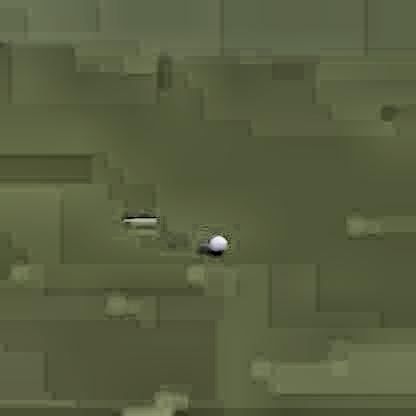golfball: (205, 232, 224, 254)
